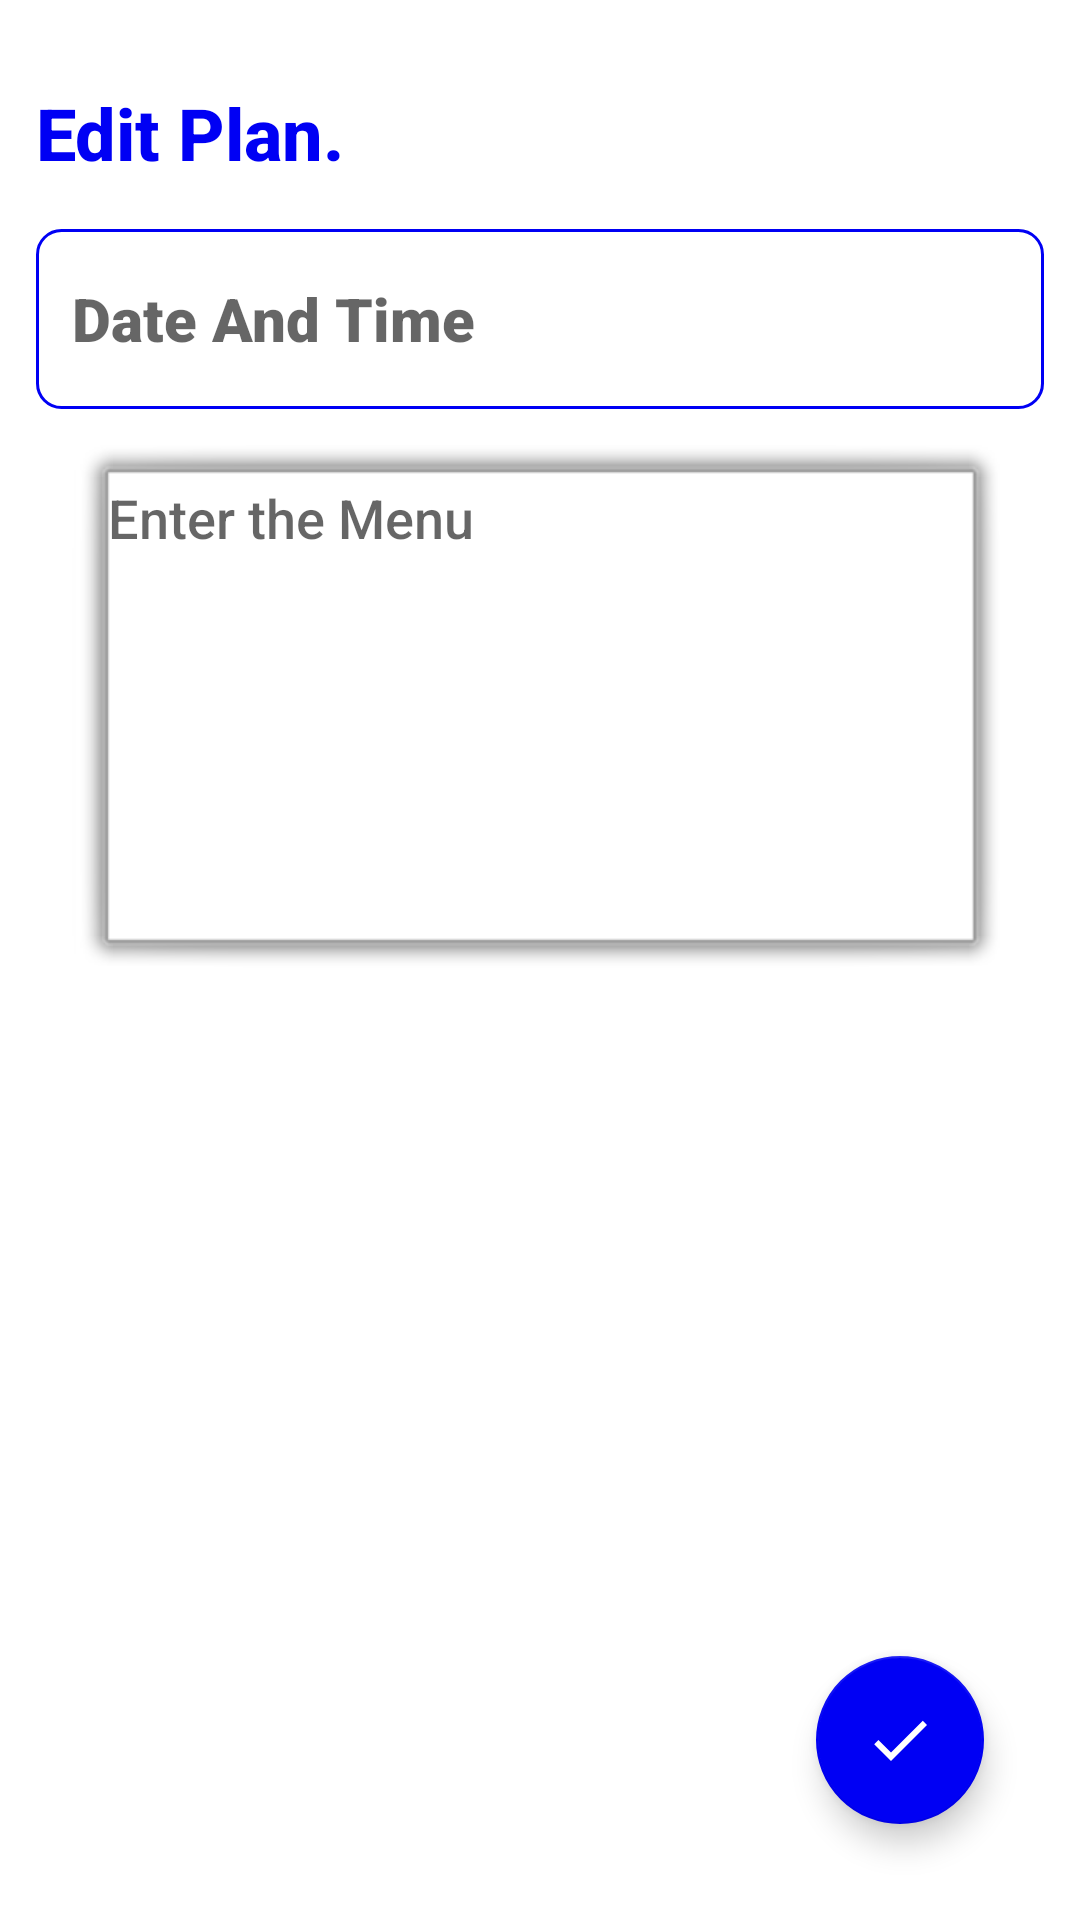

Where icons sit on this 1080w x 1920h app screen, as bbox=[x1, y1, x2, y2]:
done: bbox=[816, 1656, 984, 1824]
